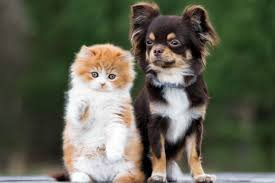cat: (57, 41, 151, 183)
dog: (121, 1, 221, 183)
